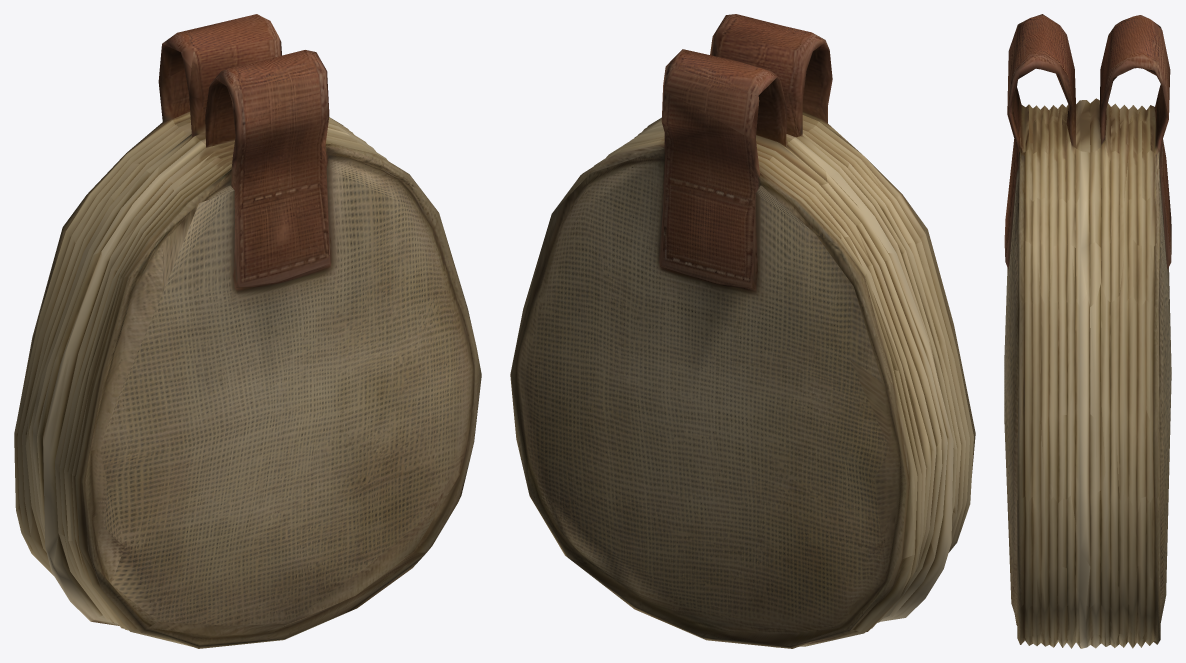
The model's file is TravelRationBag-Review.glb.
The picture shows the model from 3 angles, left to right: view 1: azimuth 30°, elevation 25°; view 2: azimuth 150°, elevation 25°; view 3: azimuth 270°, elevation 25°; orthographic projection.
Parts seen in each view (by area): view 1: TravelRationBag_Closed; view 2: TravelRationBag_Closed; view 3: TravelRationBag_Closed.
Part boxes in pixels (x1,y1,x2,y2): TravelRationBag_Closed: (14,14,481,648); TravelRationBag_Closed: (510,14,975,648); TravelRationBag_Closed: (1004,14,1171,648).
Size of the model in its own units: 0.0446 by 0.0601 by 0.0155.
1 material, 1 textured.
